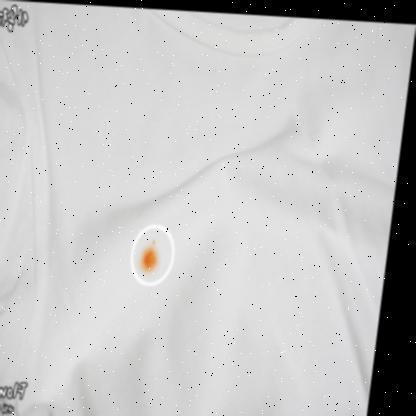kimchi: (140, 241, 164, 272)
